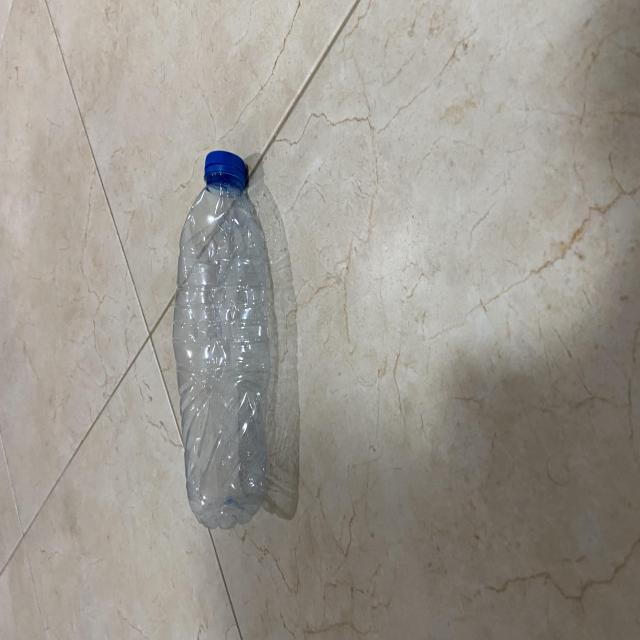plastic: (173, 147, 277, 534)
